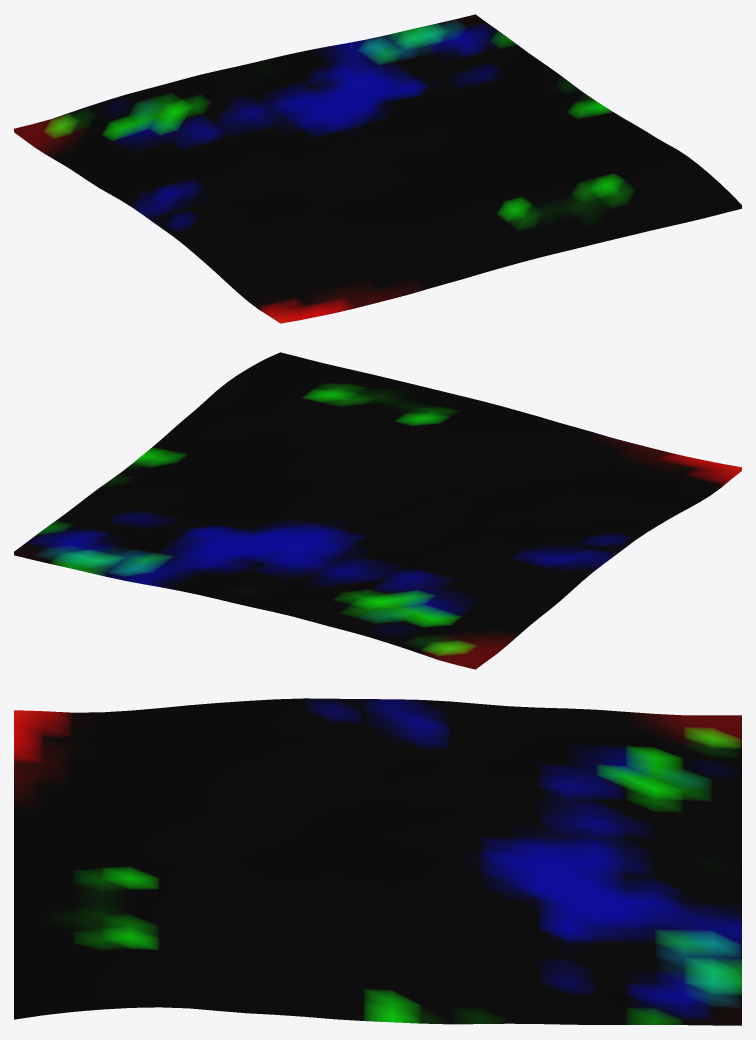
Rendered from coast_9_8.glb.
3 renders of one model, top to bottom at view 1: azimuth 30°, elevation 25°; view 2: azimuth 150°, elevation 25°; view 3: azimuth 270°, elevation 25°, orthographic. The views are drawn at different scales.
Parts seen in each view (by area): view 1: terrain; view 2: terrain; view 3: terrain.
Boxes of the visible parts, <box> form: terrain: <box>14,14,741,323</box>; terrain: <box>14,352,741,669</box>; terrain: <box>14,698,741,1025</box>.
Bounding box in the file's own units: 200 × 8.94 × 200.
